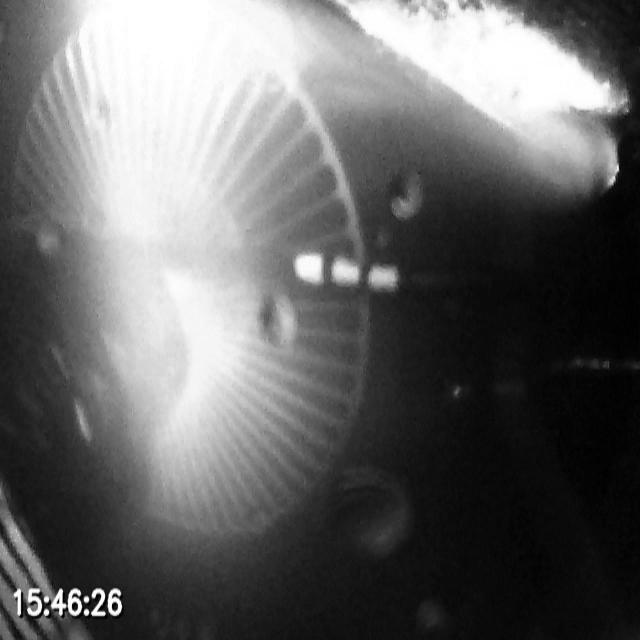white-dots: (292, 251, 400, 294)
